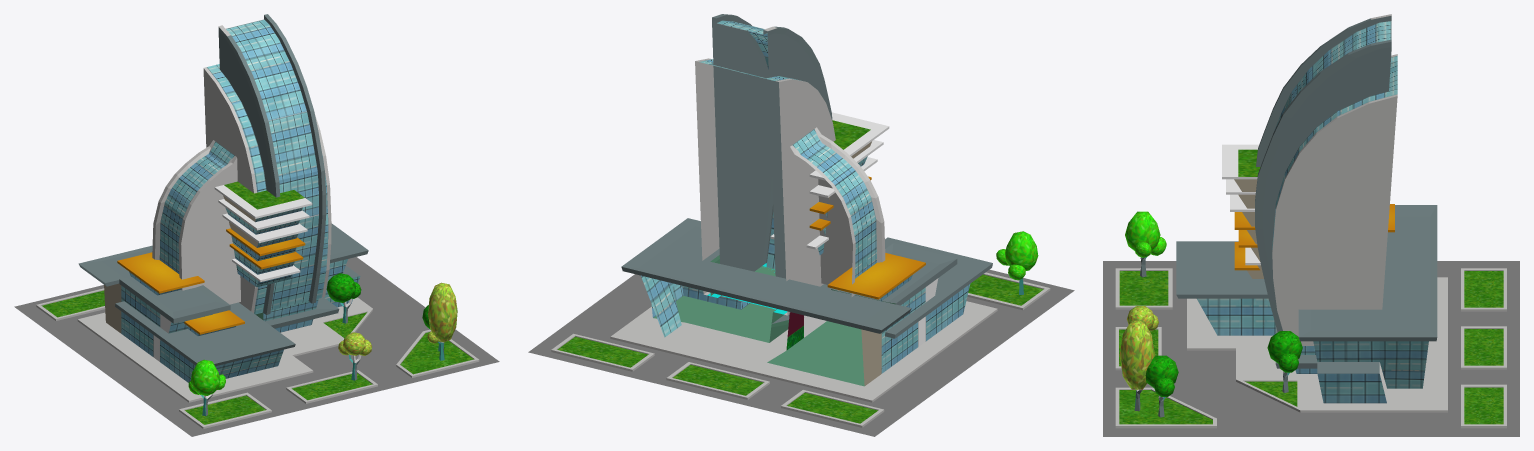
Rendered from Insurance_LV1.fbx.
3 views of the same model, side by side, from view 1: azimuth 30°, elevation 25°; view 2: azimuth 150°, elevation 25°; view 3: azimuth 270°, elevation 25° (orthographic). The views are drawn at different scales.
Visible parts, largest first — view 1: income level 1; view 2: income level 1; view 3: income level 1.
Boxes of the visible parts, left/top/right/bottom form: income level 1: left=14, top=14, right=499, bottom=436; income level 1: left=528, top=14, right=1074, bottom=436; income level 1: left=1103, top=14, right=1519, bottom=436.
Size of the model in its own units: 120 by 106 by 120.
